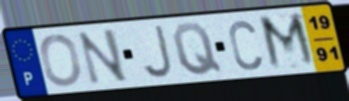C: (227, 18, 265, 73)
J: (140, 23, 175, 81)
M: (256, 11, 320, 72)
N: (75, 27, 131, 87)
O: (38, 33, 84, 89)
Q: (170, 21, 225, 78)
